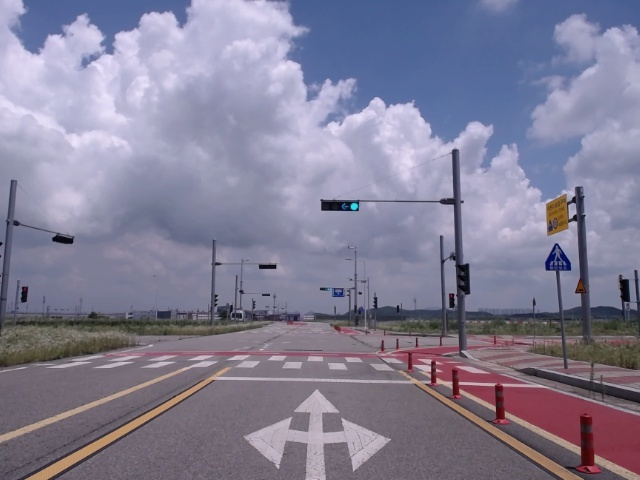all_green_4: (321, 198, 360, 209)
